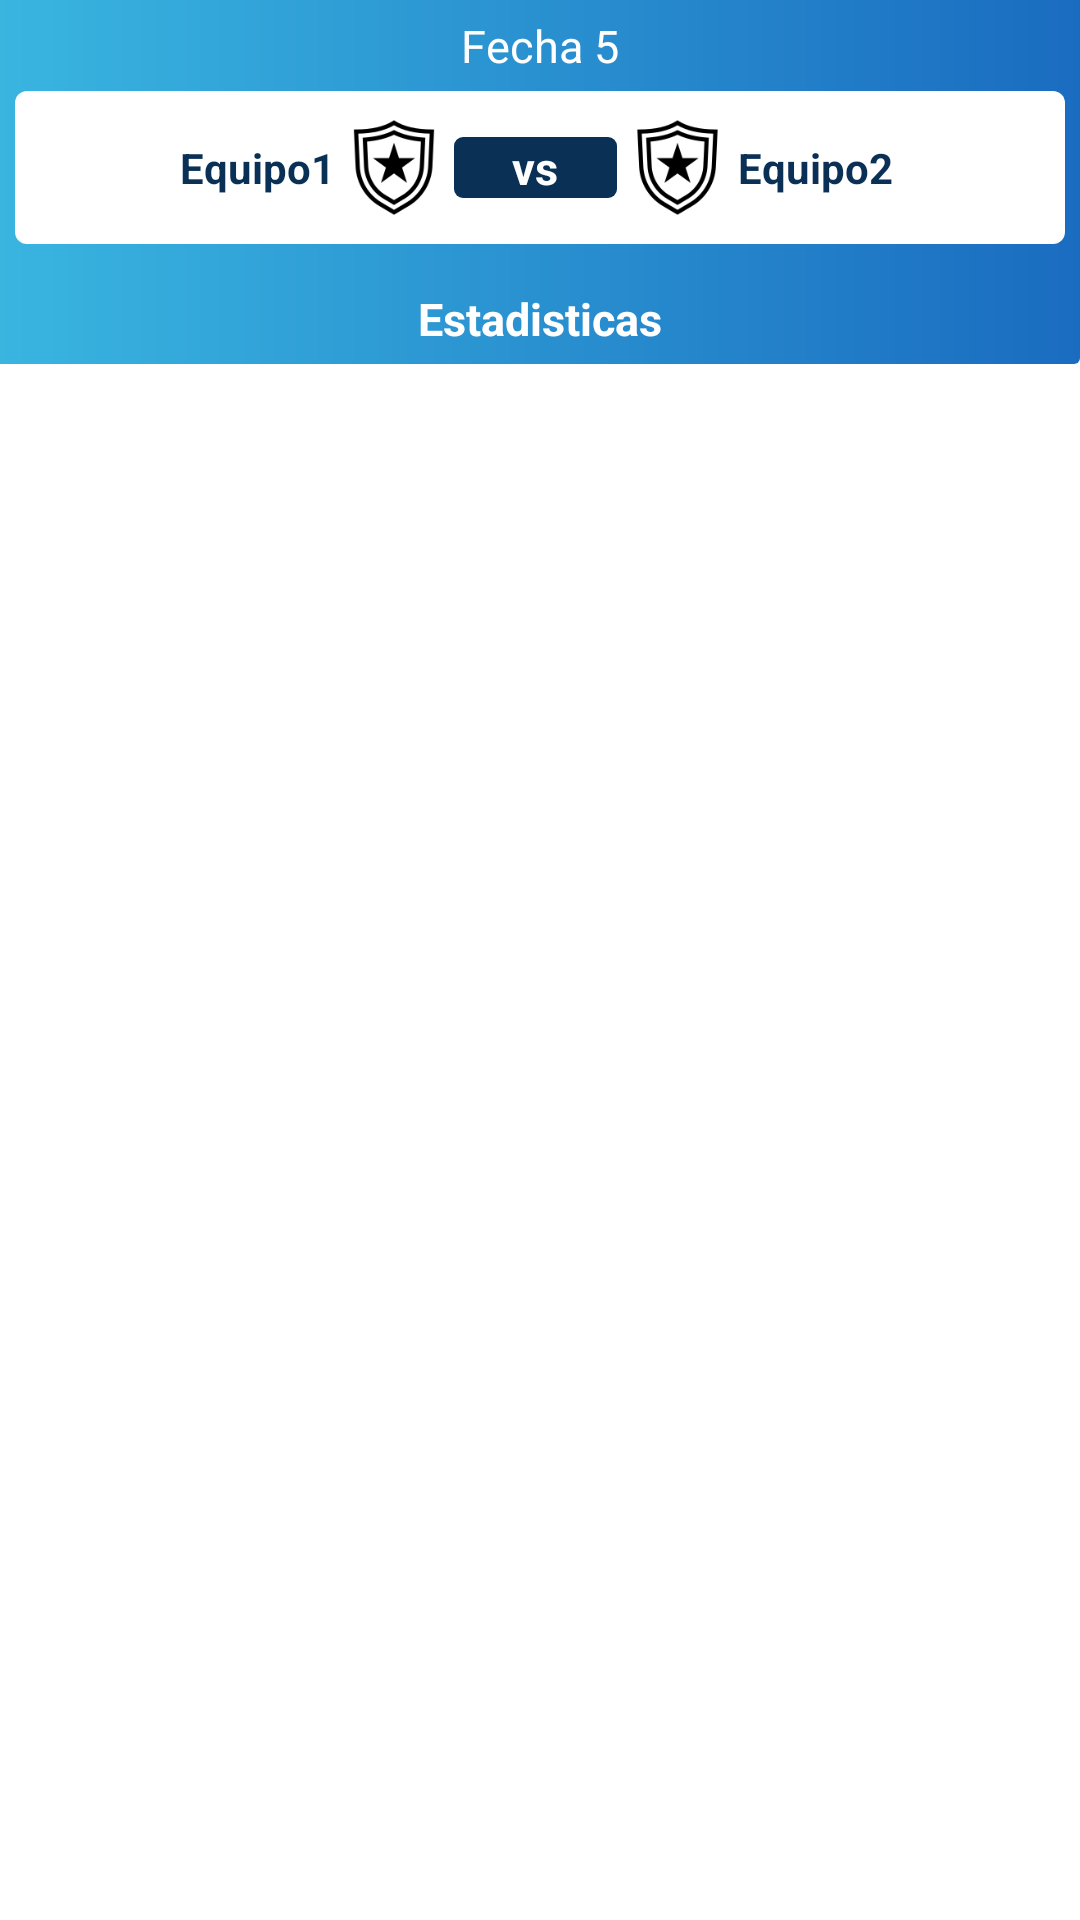

Named icons in this screenshot (1080 × 1920) and their centers, (x,y):
escudo: (394,167), (677,167)
